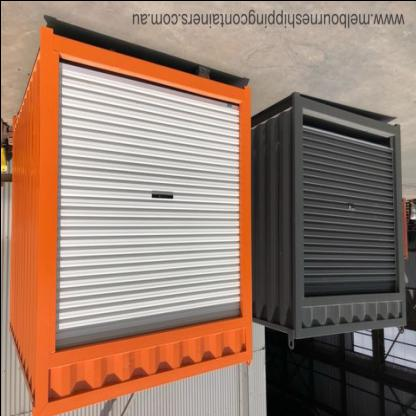Damage: (258, 124, 284, 156), (26, 80, 36, 158), (10, 164, 38, 190), (371, 202, 381, 224)
